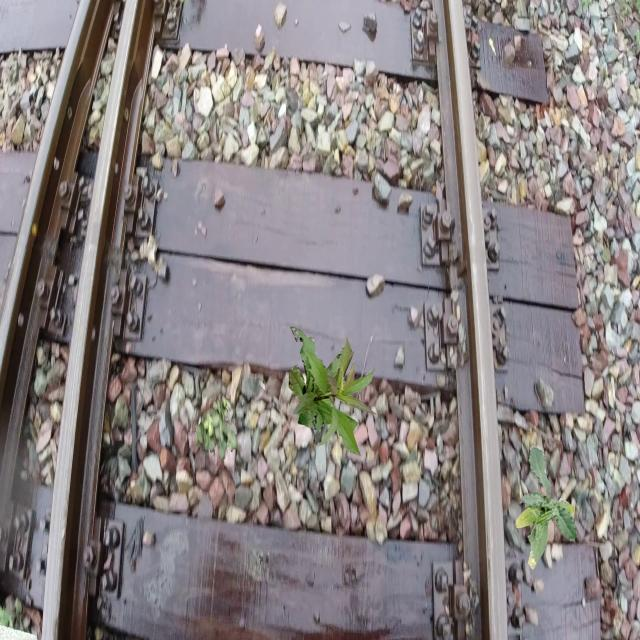Plant: (289, 327, 378, 457), (515, 446, 578, 570), (195, 394, 238, 461)
